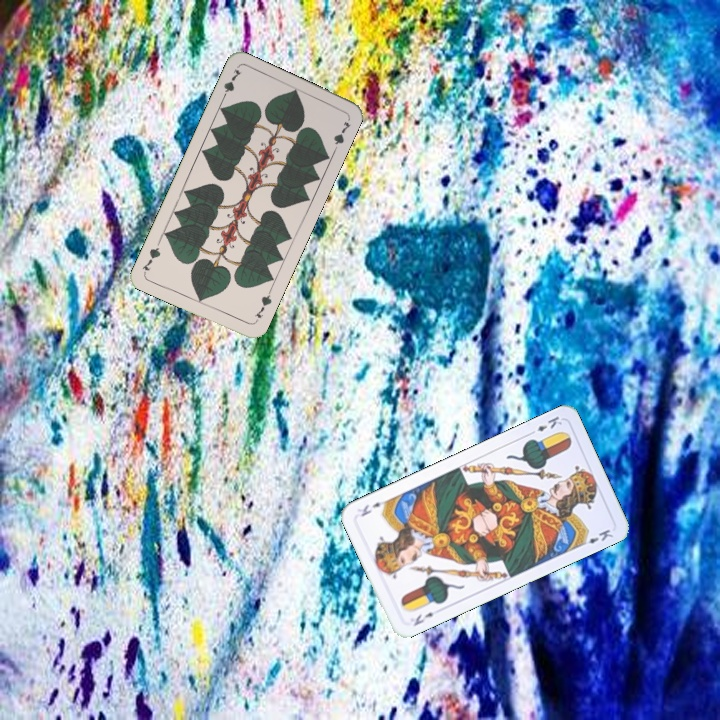EK: (525, 412, 565, 438), (409, 608, 436, 629)
G7: (218, 65, 244, 103), (251, 287, 274, 321)
